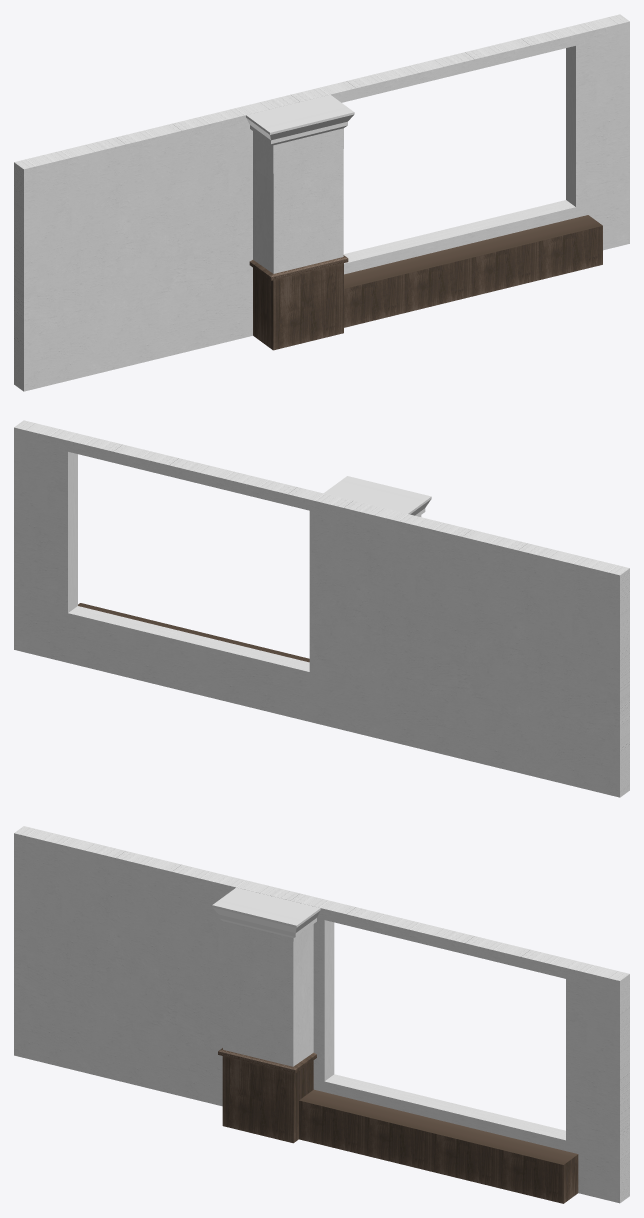
The model's file is Wall 2.FBX.
3 renders of one model, top to bottom at view 1: azimuth 30°, elevation 25°; view 2: azimuth 150°, elevation 25°; view 3: azimuth 330°, elevation 25°, orthographic.
Visible parts, largest first — view 1: Wall 2; view 2: Wall 2; view 3: Wall 2.
Boxes of the visible parts, bbox=[...] form: Wall 2: bbox=[14, 14, 629, 391]; Wall 2: bbox=[14, 420, 629, 797]; Wall 2: bbox=[14, 826, 629, 1203].
Size of the model in its own units: 778 by 273 by 75.26.
2 materials, 2 textured.
